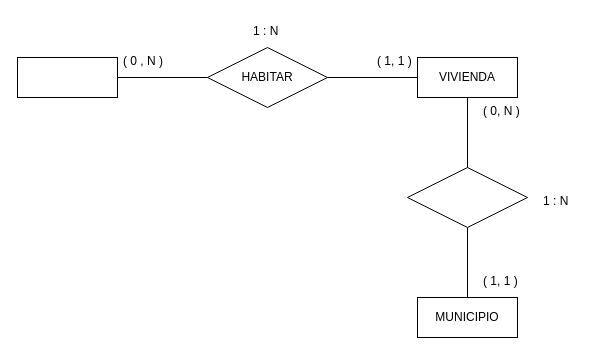
Some shapes in this 595 by 355 pixel diagram are drawn without their labels. The shapes that lost their labels are listed below. From the top down, each one's centre as x and y in pixels, then its label:
At pixel 67 77: "PERSONA".
At pixel 467 197: "PERTENECE".
